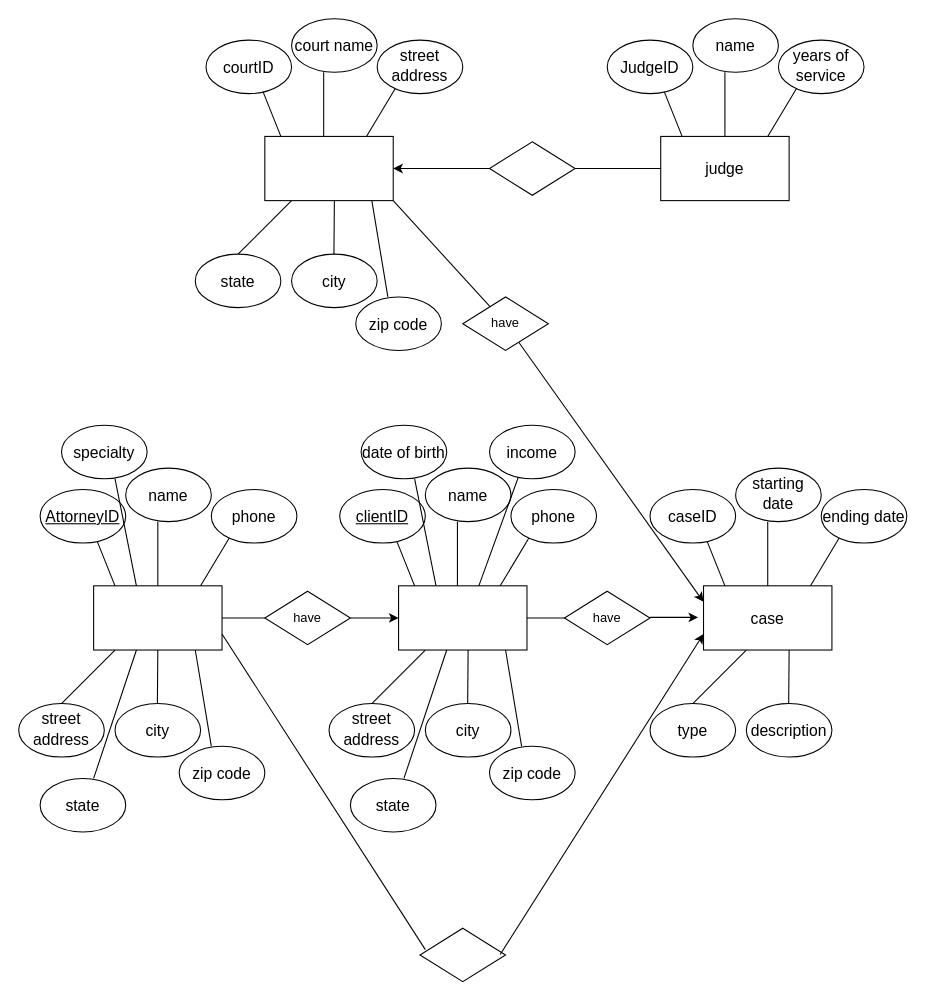
This 926x1000 diagram has some shape labels left out. The shapes that lost their labels are listed below. From the top down, each one's box as (x1, y1, x2, y2) in pixels, then its label:
(264, 135, 393, 201): court
(488, 141, 575, 195): preside
(93, 585, 222, 650): attorney
(398, 585, 527, 650): client
(419, 927, 506, 982): retain
